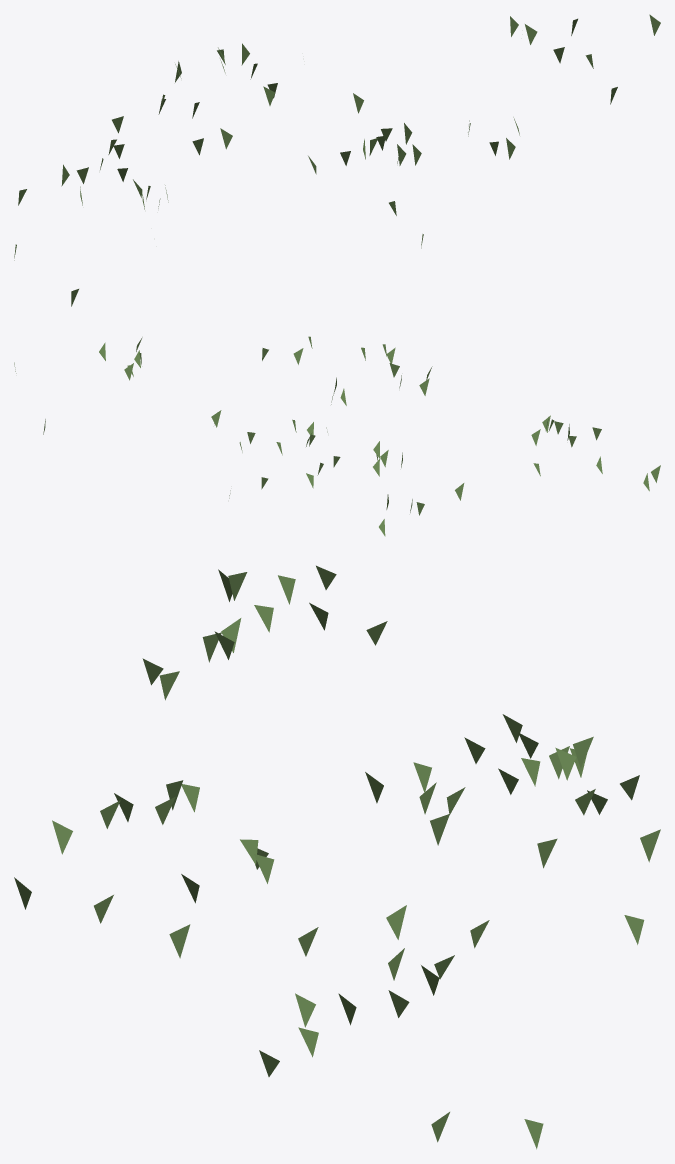
The model's file is teaching3-vegetation-00-far.glb.
3 renders of one model, top to bottom at view 1: azimuth 30°, elevation 25°; view 2: azimuth 150°, elevation 25°; view 3: azimuth 270°, elevation 25°, orthographic. The views are drawn at different scales.
Parts seen in each view (by area): view 1: shrubs; view 2: shrubs; view 3: shrubs.
Part boxes in pixels (left/top/right/bottom): shrubs: left=14, top=14, right=660, bottom=306; shrubs: left=14, top=336, right=660, bottom=536; shrubs: left=14, top=565, right=660, bottom=1149.
Size of the model in its own units: 10.75 by 1.54 by 5.31.
